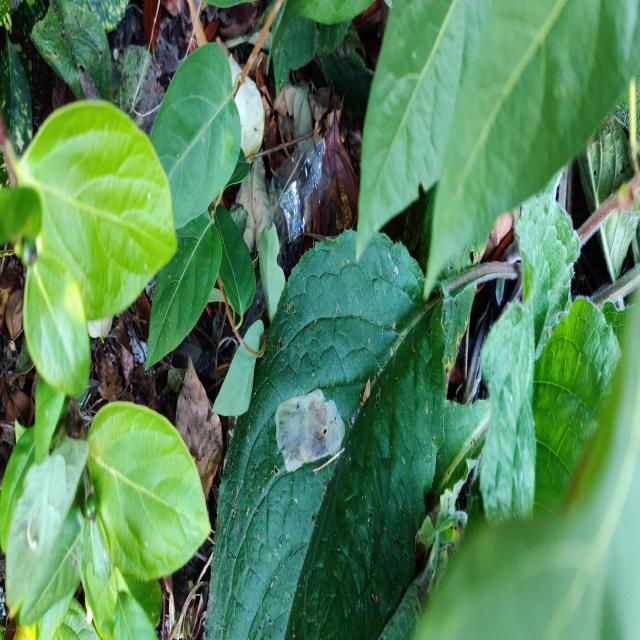litter: (269, 136, 332, 247)
